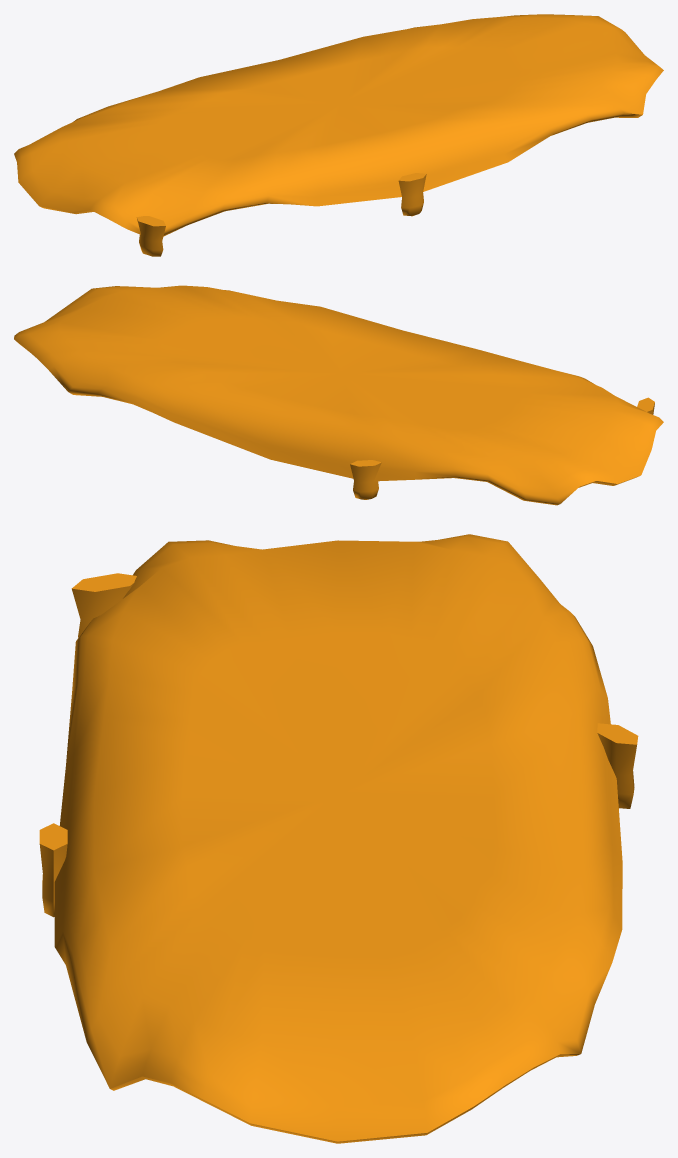
File: Food_Cheddar_Melted.fbx
3 views of the same model, one above another, from view 1: azimuth 30°, elevation 25°; view 2: azimuth 150°, elevation 25°; view 3: azimuth 270°, elevation 25° (orthographic). The views are drawn at different scales.
Visible parts, largest first — view 1: Cheese; view 2: Cheese; view 3: Cheese.
Boxes of the visible parts, x1,y1,x2,y2 form: Cheese: (14, 14, 663, 256); Cheese: (14, 285, 663, 505); Cheese: (39, 534, 638, 1143).
Size of the model in its own units: 228 by 22.7 by 97.84.
